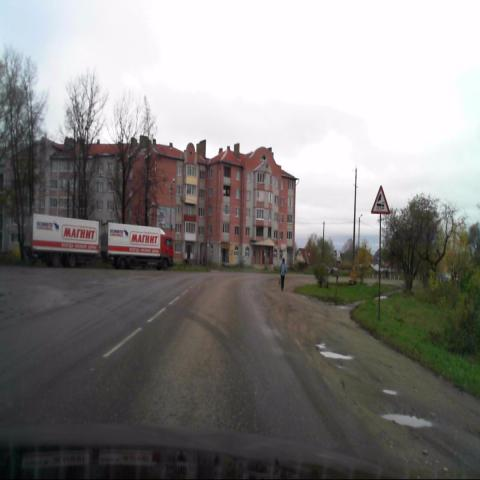1_2: (370, 183, 391, 214)
